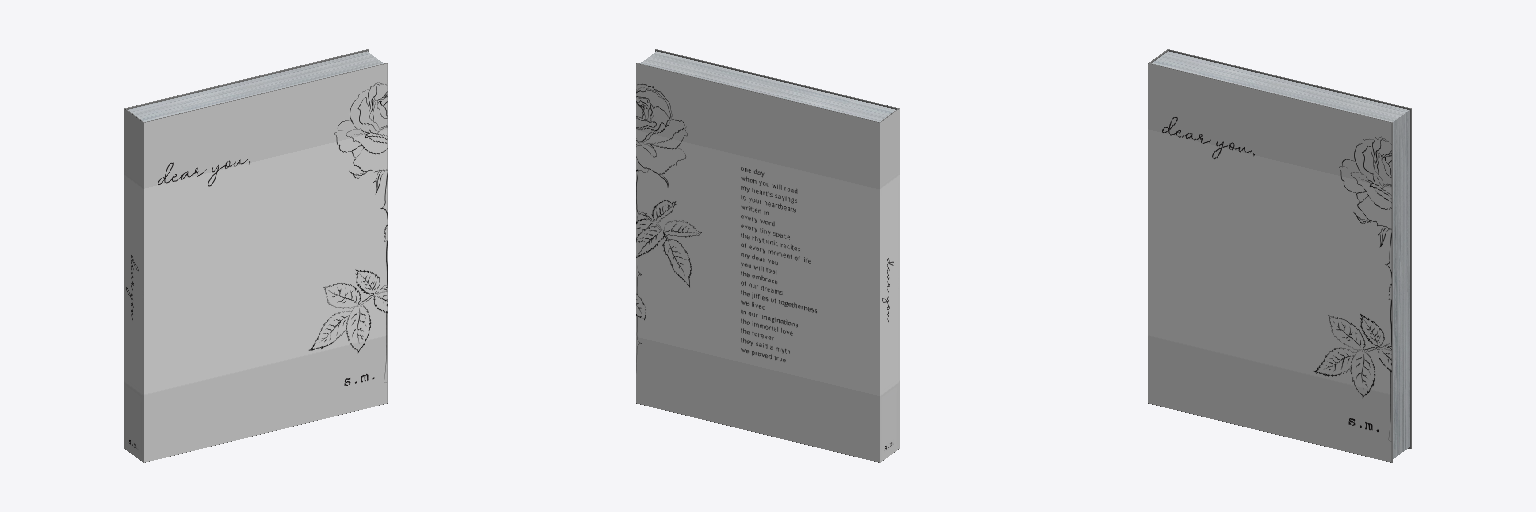
3 renders of one model, left to right at view 1: azimuth 30°, elevation 25°; view 2: azimuth 150°, elevation 25°; view 3: azimuth 330°, elevation 25°, orthographic.
Parts seen in each view (by area): view 1: Box001; view 2: Box001; view 3: Box001.
Boxes of the visible parts, x1,y1,x2,y2 form: Box001: [124, 49, 387, 462]; Box001: [636, 49, 899, 462]; Box001: [1148, 49, 1411, 462].
Bounding box in the file's own units: 11.66 × 15.55 × 1.62.
1 materials, 1 textured.